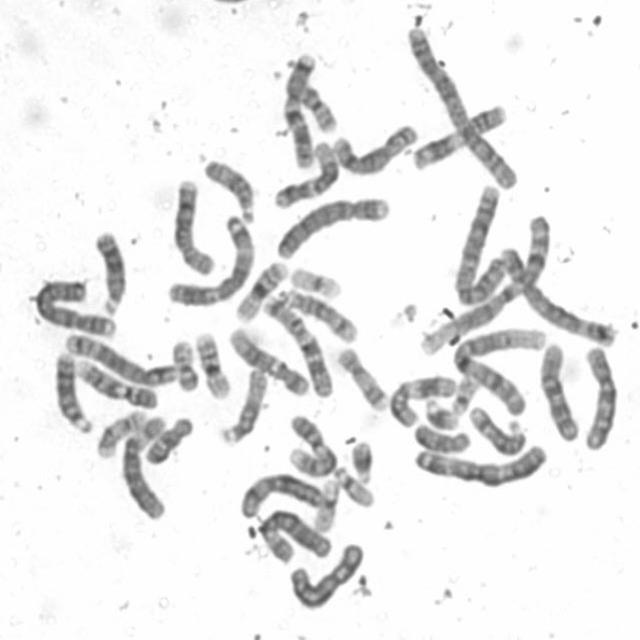A1: (415, 209, 556, 357), (449, 321, 550, 417)
A2: (401, 18, 522, 192), (450, 179, 510, 306)
A3: (162, 210, 256, 306), (411, 441, 549, 490)
B4: (271, 188, 394, 260), (30, 272, 118, 340)
B5: (494, 239, 620, 348), (60, 327, 179, 388)
C10: (534, 337, 583, 444), (579, 342, 621, 452)
C11: (408, 97, 512, 171), (386, 369, 458, 429)
C12: (225, 322, 312, 398), (270, 137, 342, 211)
C6: (115, 407, 172, 524), (254, 504, 334, 566)
C7: (260, 286, 338, 399), (278, 46, 320, 170)
C8: (328, 117, 422, 178), (170, 173, 218, 277)
C9: (71, 352, 162, 410), (284, 408, 340, 479)
D13: (49, 345, 96, 435), (90, 224, 130, 317)
D14: (276, 284, 361, 345), (465, 402, 529, 457)
D15: (212, 362, 268, 447), (200, 154, 258, 225)
E16: (230, 256, 292, 324), (192, 325, 234, 401)
E17: (334, 342, 390, 412), (93, 403, 150, 460)
E18: (142, 411, 196, 466), (409, 419, 474, 456)
F19: (286, 263, 342, 299), (309, 474, 342, 533)
F20: (294, 80, 340, 134), (166, 335, 198, 393)
G21: (422, 394, 462, 431), (348, 434, 376, 486)
G22: (331, 462, 378, 510), (448, 369, 480, 415)
X: (284, 537, 368, 612), (234, 469, 326, 519)
